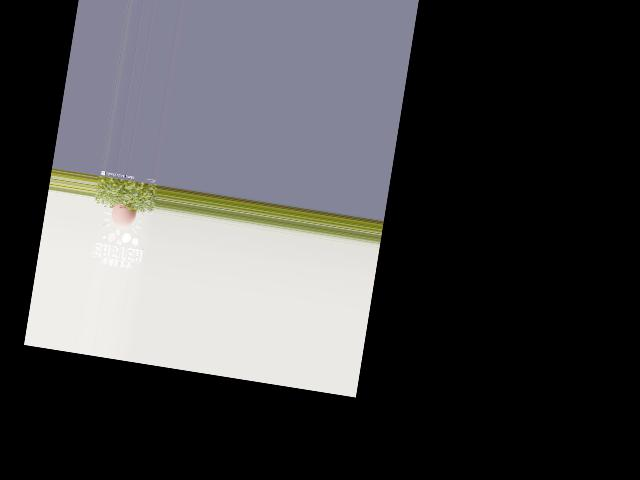egg: (110, 202, 138, 229)
